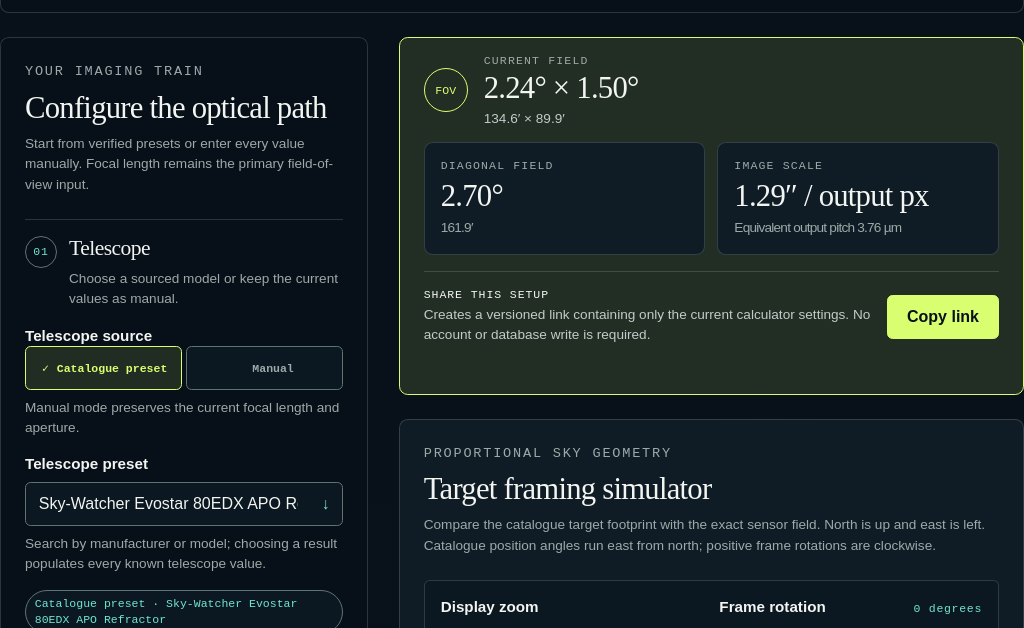
FieldOfViewLab › still copies when address-bar synchronization is unavailable
(page scrolled)
Click the button "Copy link" at [943, 317], box [887,295,999,339]
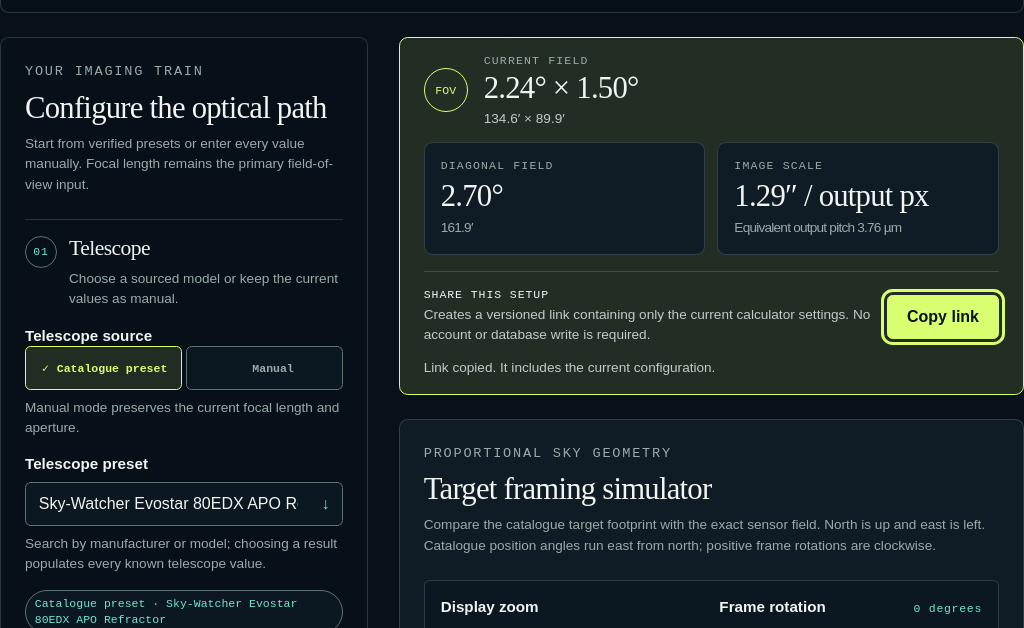
expect the text "Link copied. It includes the current configuration." is shown: met, box [424,360,715,375]
